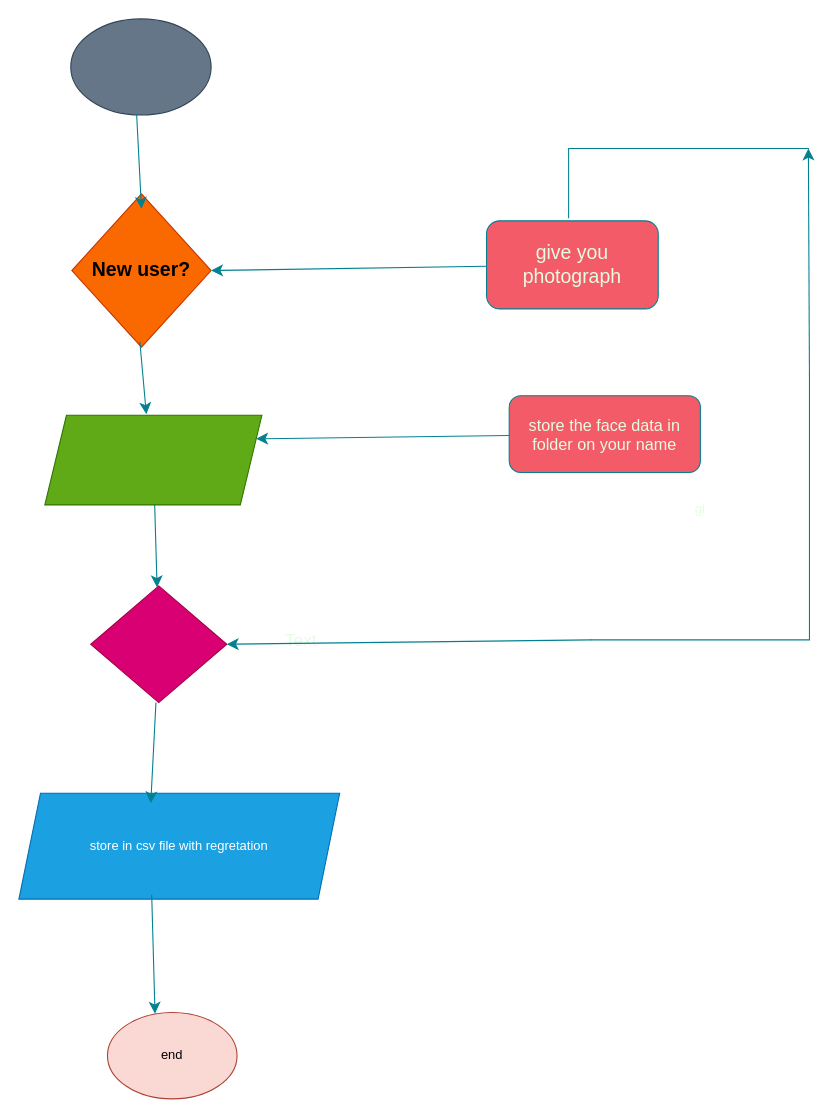
Some shapes in this 833 by 1118 pixel diagram are drawn without their labels. The centre of each missing label's shape, as x and y in pixels:
"face recoginzed" goes at (x=158, y=644).
"recogize the face" goes at (x=153, y=459).
"start" goes at (x=140, y=66).
